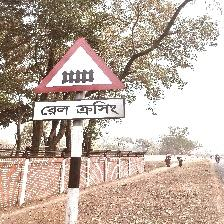Rail-crossing: (32, 38, 128, 125)
